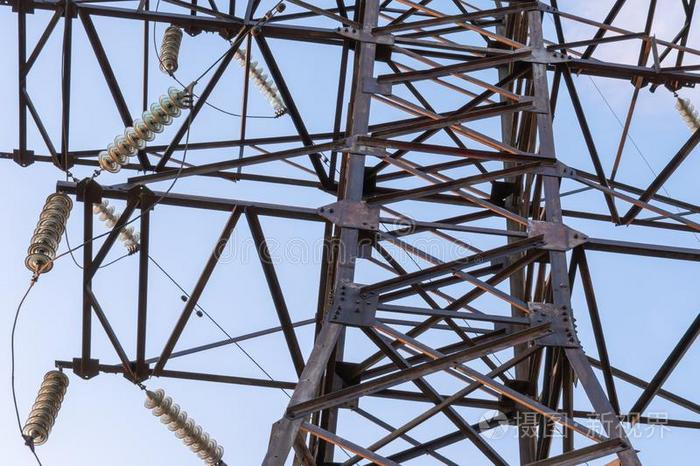insulator: (98, 88, 185, 175), (144, 389, 229, 465), (23, 193, 72, 275), (23, 370, 69, 445), (236, 47, 283, 103), (97, 200, 140, 247), (157, 23, 187, 70), (675, 98, 700, 130)
